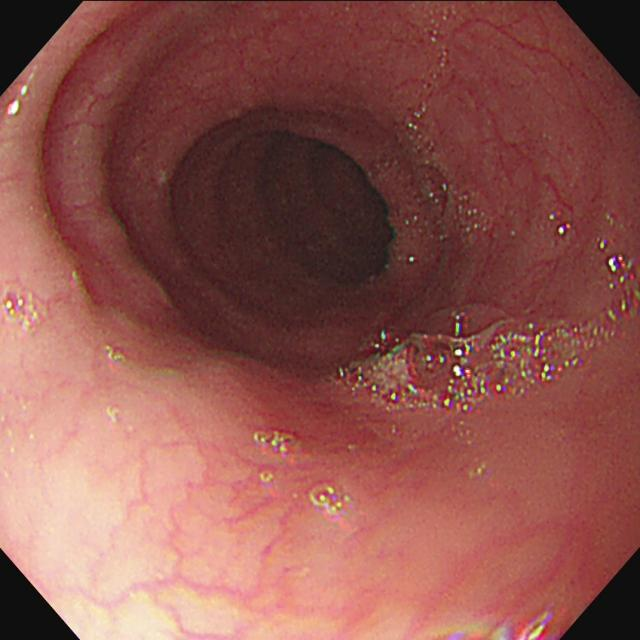E: (277, 127, 400, 281)
T: (336, 306, 605, 418), (406, 2, 490, 234), (2, 290, 42, 333), (311, 486, 354, 517)
U: (446, 614, 553, 640), (608, 256, 629, 277)
